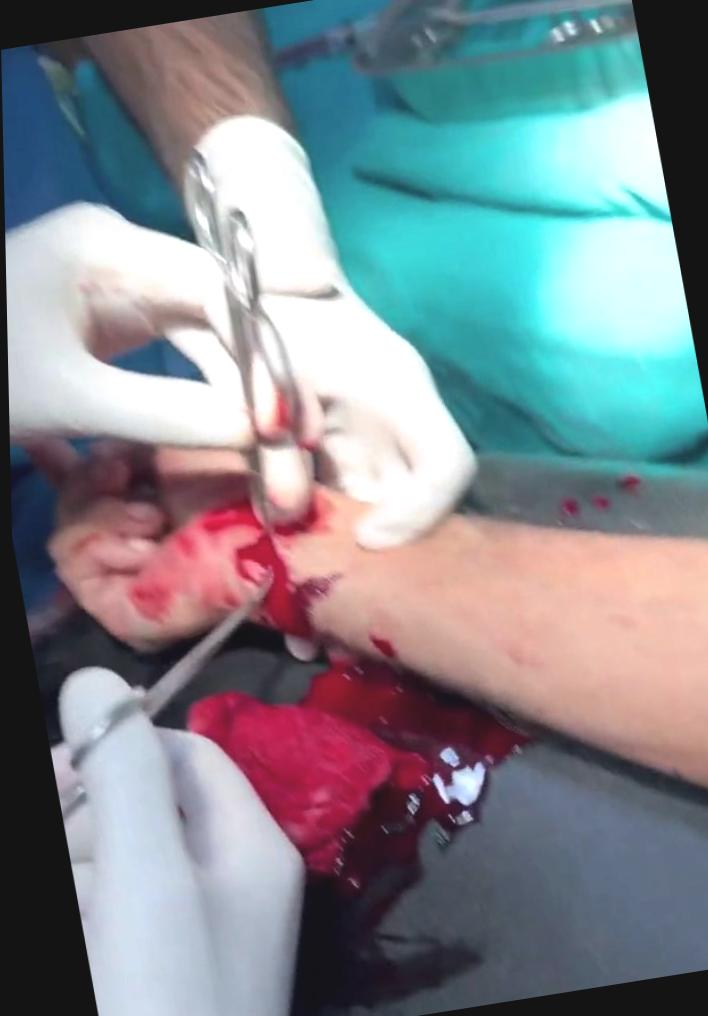Fire: (183, 634, 529, 901), (126, 499, 337, 645), (461, 456, 708, 537)
